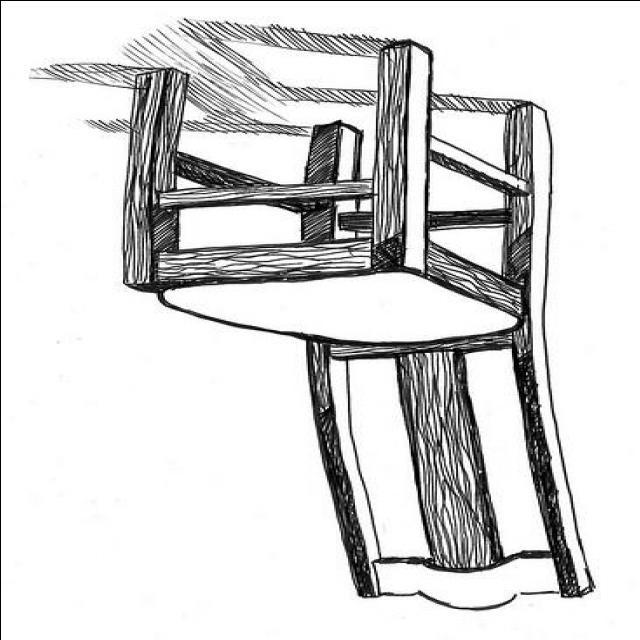chair: (119, 38, 594, 610)
